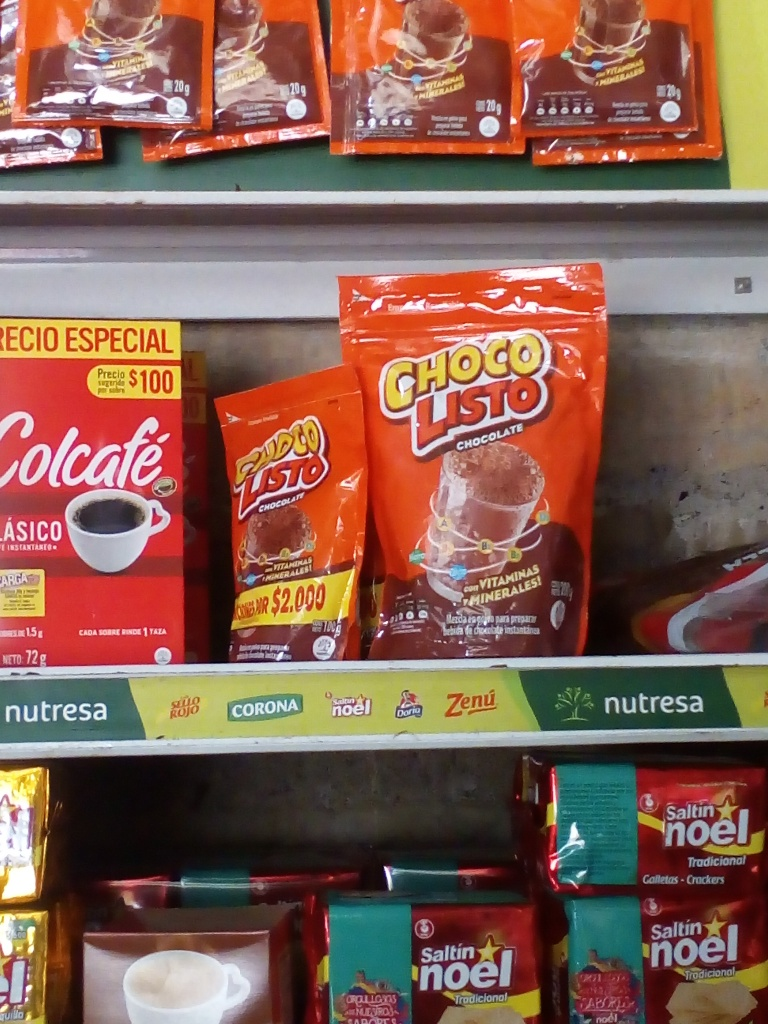COL0170103SOB02000: (12, 1, 209, 131)
